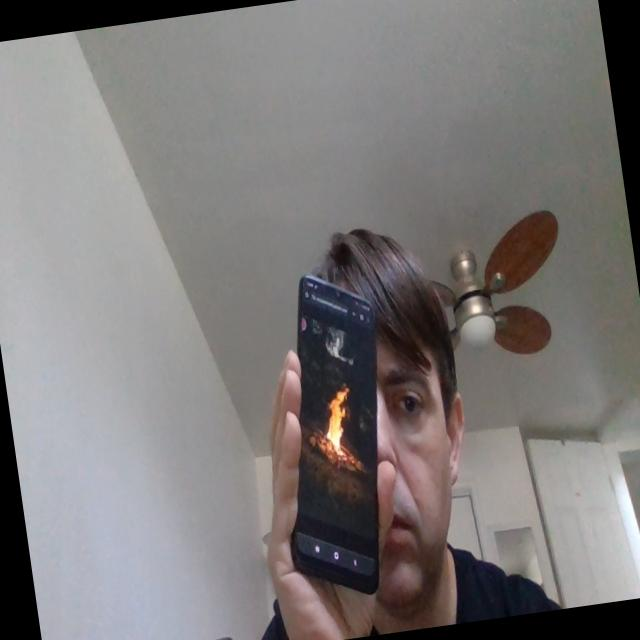Fire: (308, 370, 366, 476)
